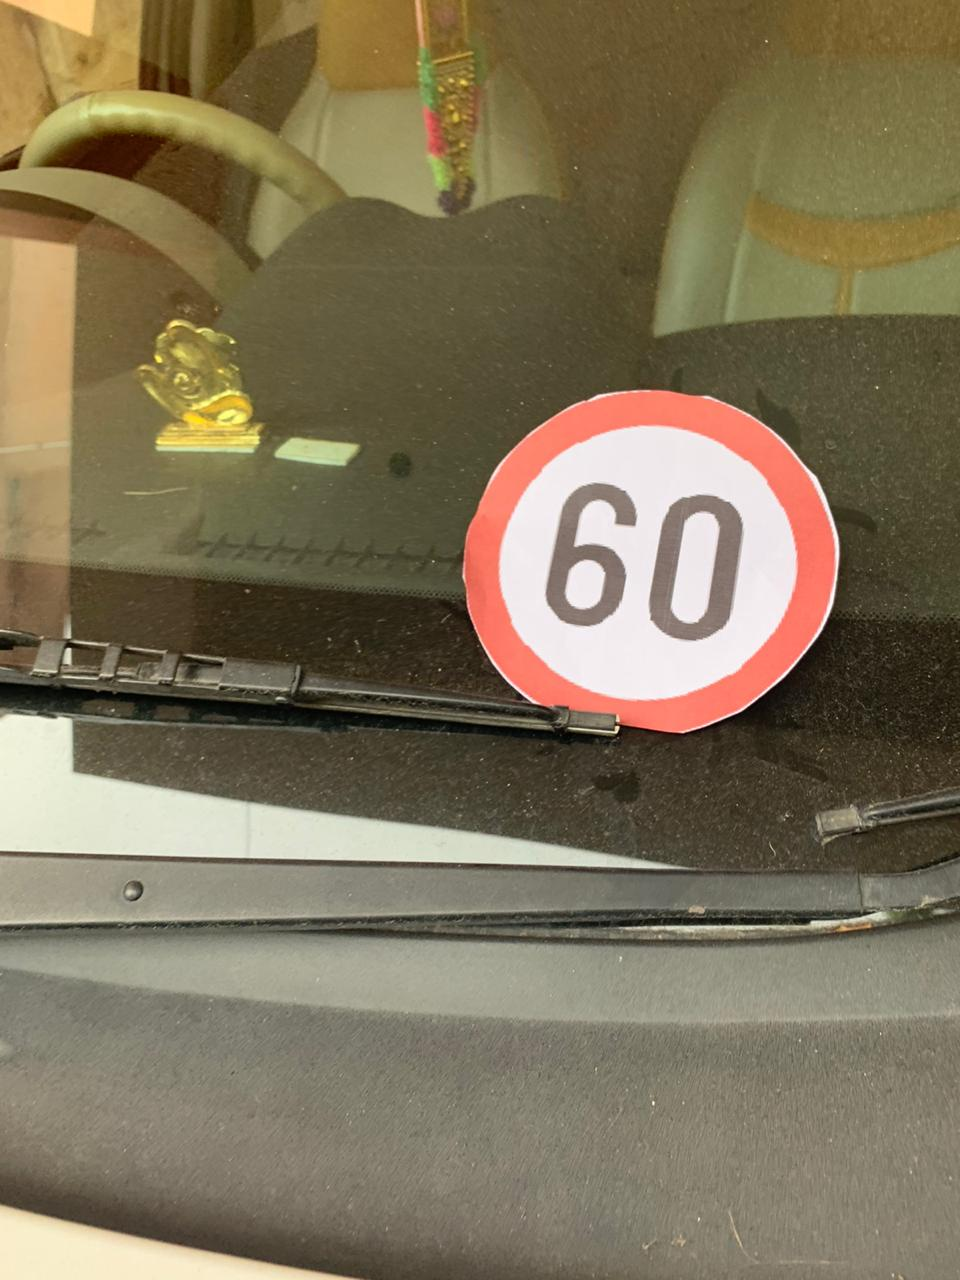U-TURN: (442, 318, 853, 756)
